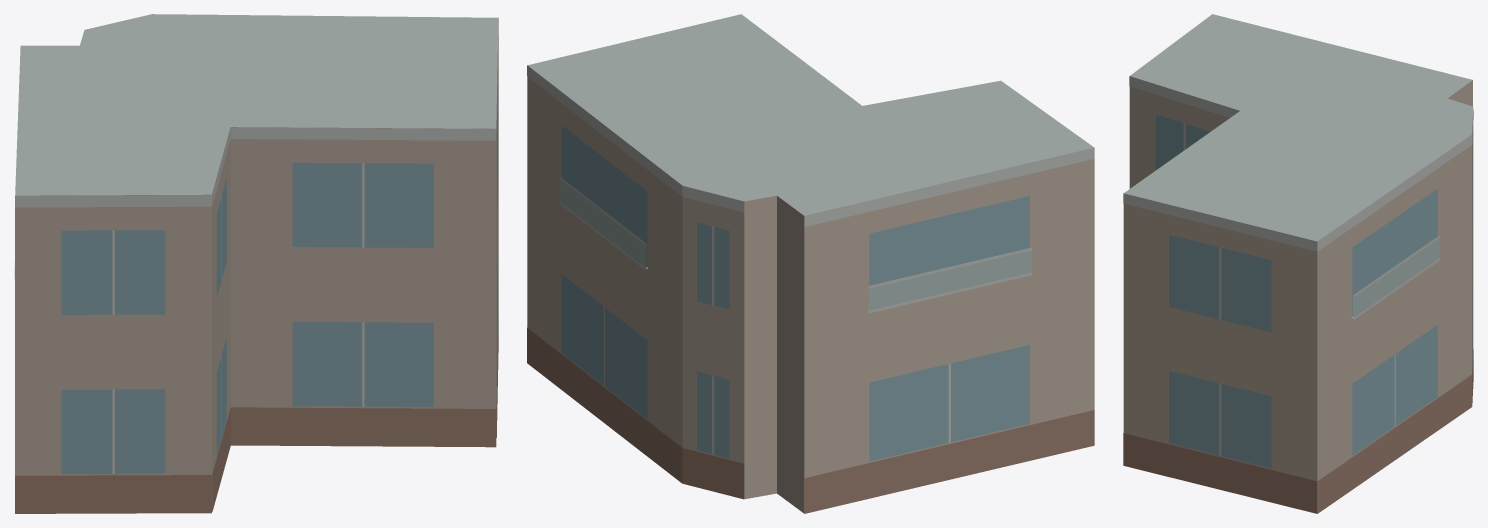
File: survey-upis-32591438.glb
The picture shows the model from 3 angles, left to right: view 1: azimuth 30°, elevation 25°; view 2: azimuth 150°, elevation 25°; view 3: azimuth 270°, elevation 25°; orthographic projection. The views are drawn at different scales.
Visible parts, largest first — view 1: survey-upis-32591438.tmp; view 2: survey-upis-32591438.tmp; view 3: survey-upis-32591438.tmp.
Part boxes in pixels (<box>): survey-upis-32591438.tmp: <box>14,14,498,513</box>; survey-upis-32591438.tmp: <box>527,14,1094,513</box>; survey-upis-32591438.tmp: <box>1123,14,1473,513</box>.
Bounding box in the file's own units: 11.65 × 6.5 × 7.58.
